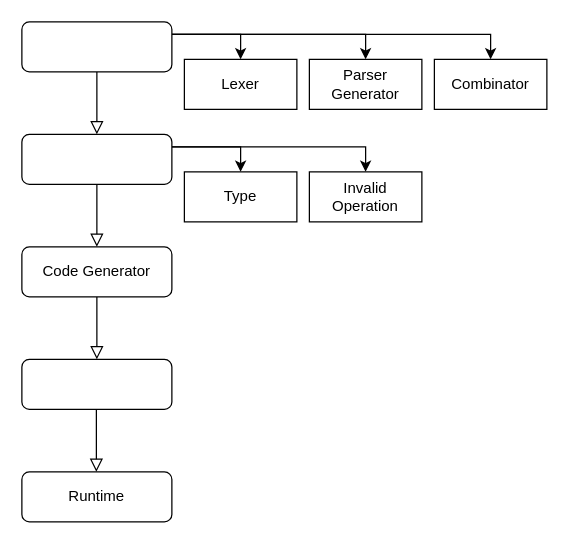
This 569x544 diagram has some shape labels left out. The shapes that lost their labels are listed below. From the top down, each one's centre as x and y in pixels, then its label:
At [96,46]: "Parser".
At [96,158]: "Semantic Checker".
At [96,383]: "Optimizer".
